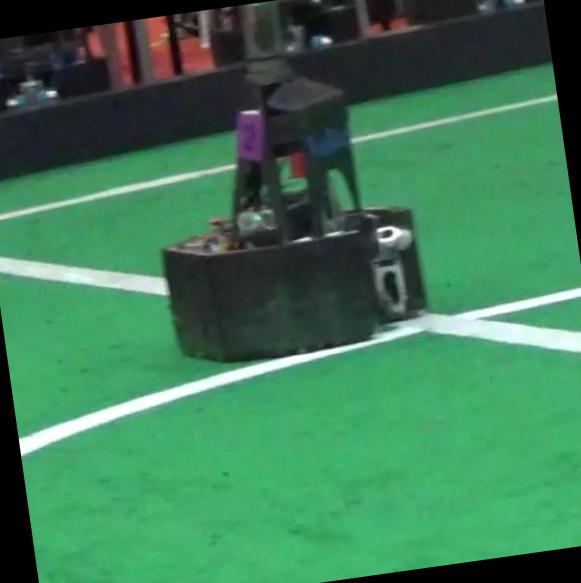robot: (162, 1, 426, 361)
